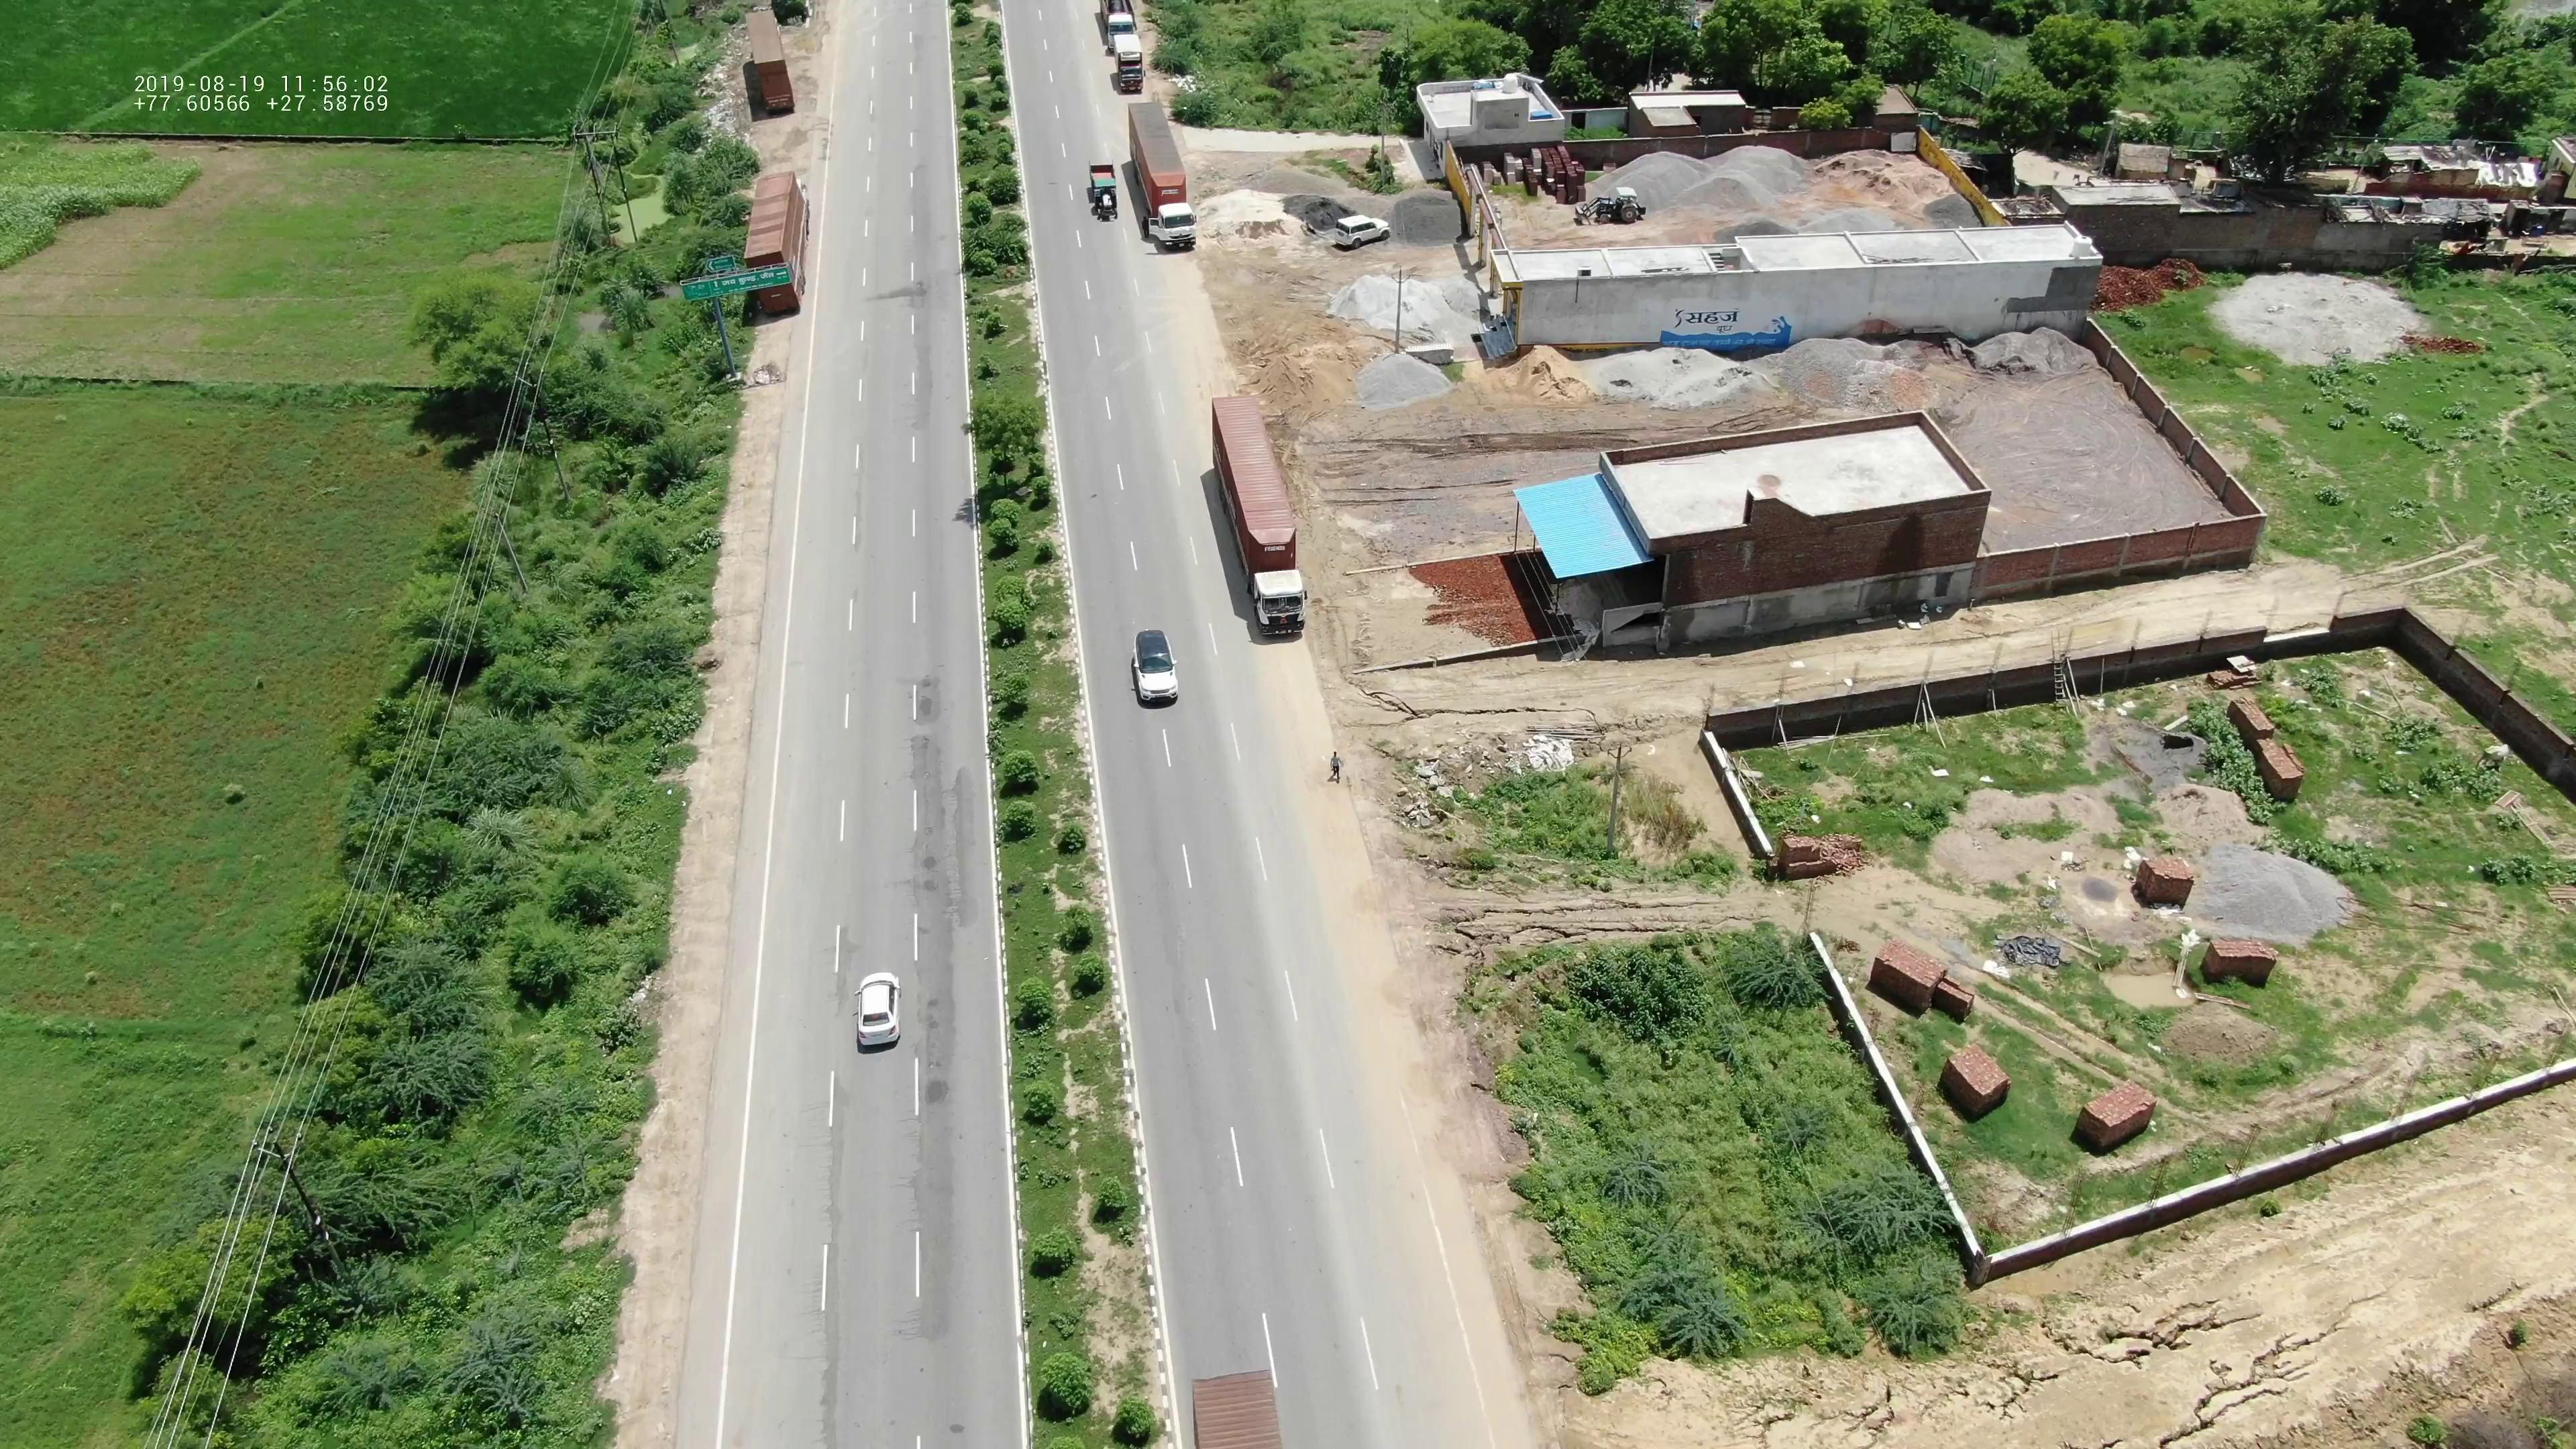Potholes: (920, 732, 939, 782), (913, 816, 939, 844)
